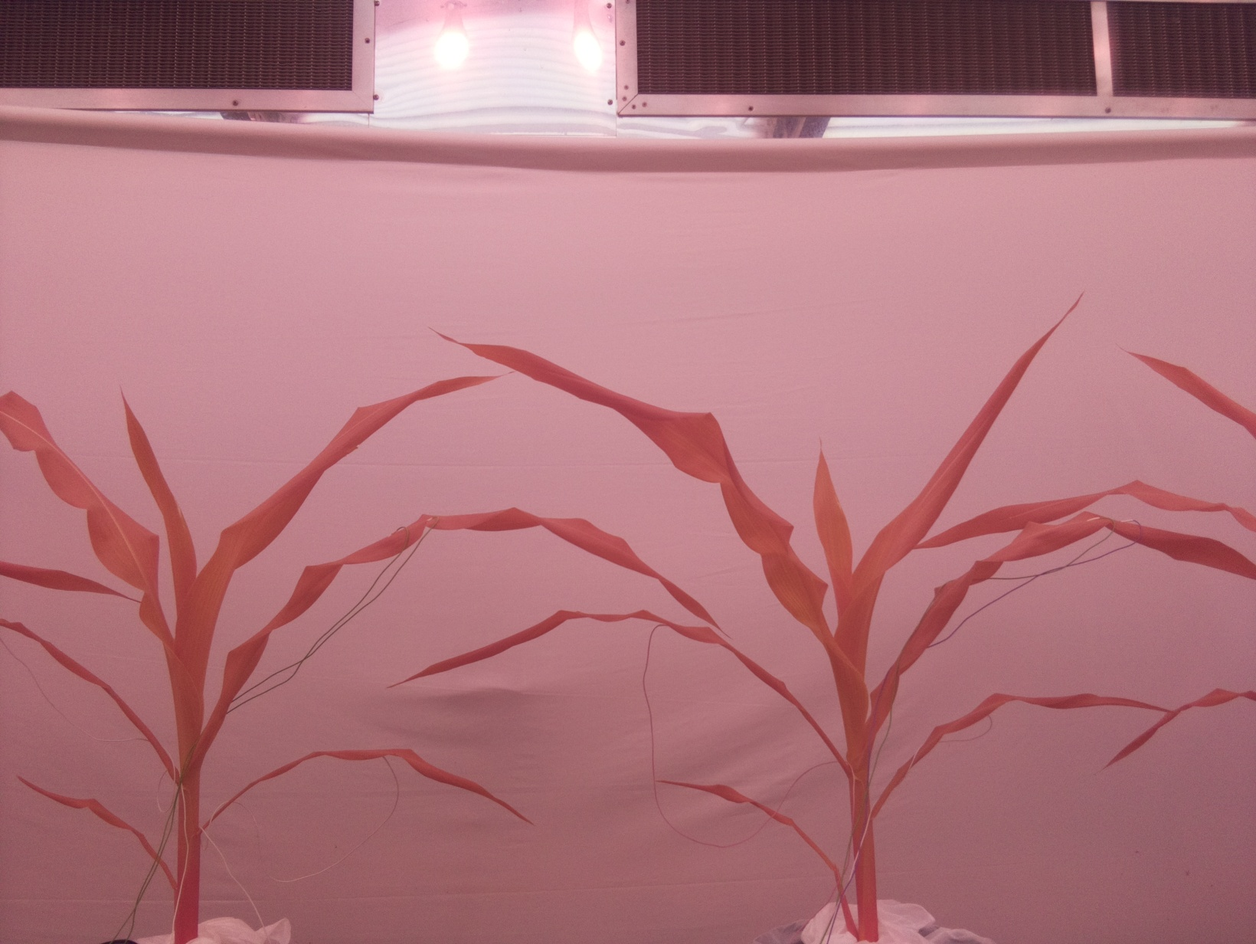maize: (391, 289, 1256, 944), (1, 369, 531, 944)
